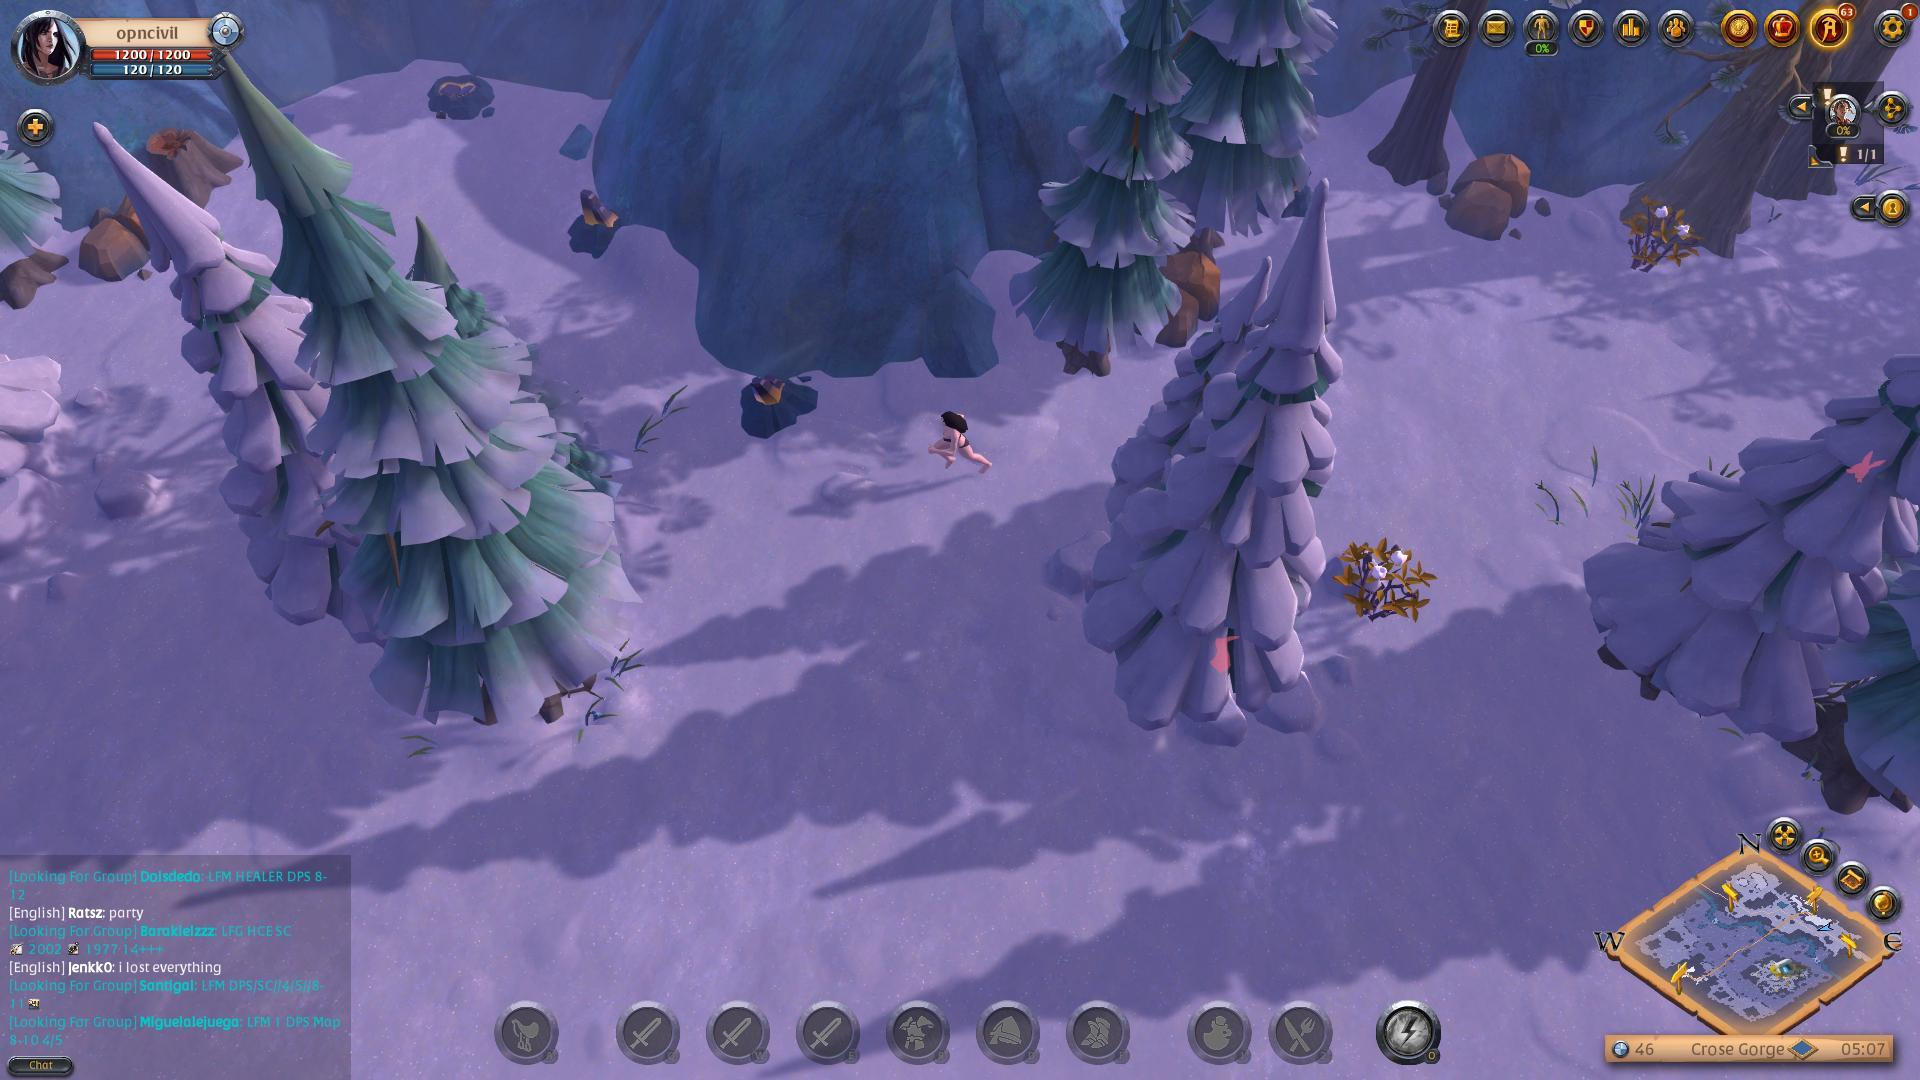copper_ore: (725, 372, 825, 436), (564, 185, 633, 270)
cotton: (1333, 545, 1452, 626), (1602, 200, 1726, 270)
limestone: (1440, 142, 1544, 244)
